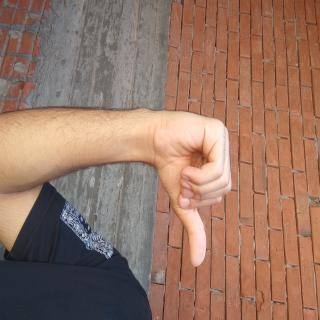WAW: (75, 113, 202, 244)
